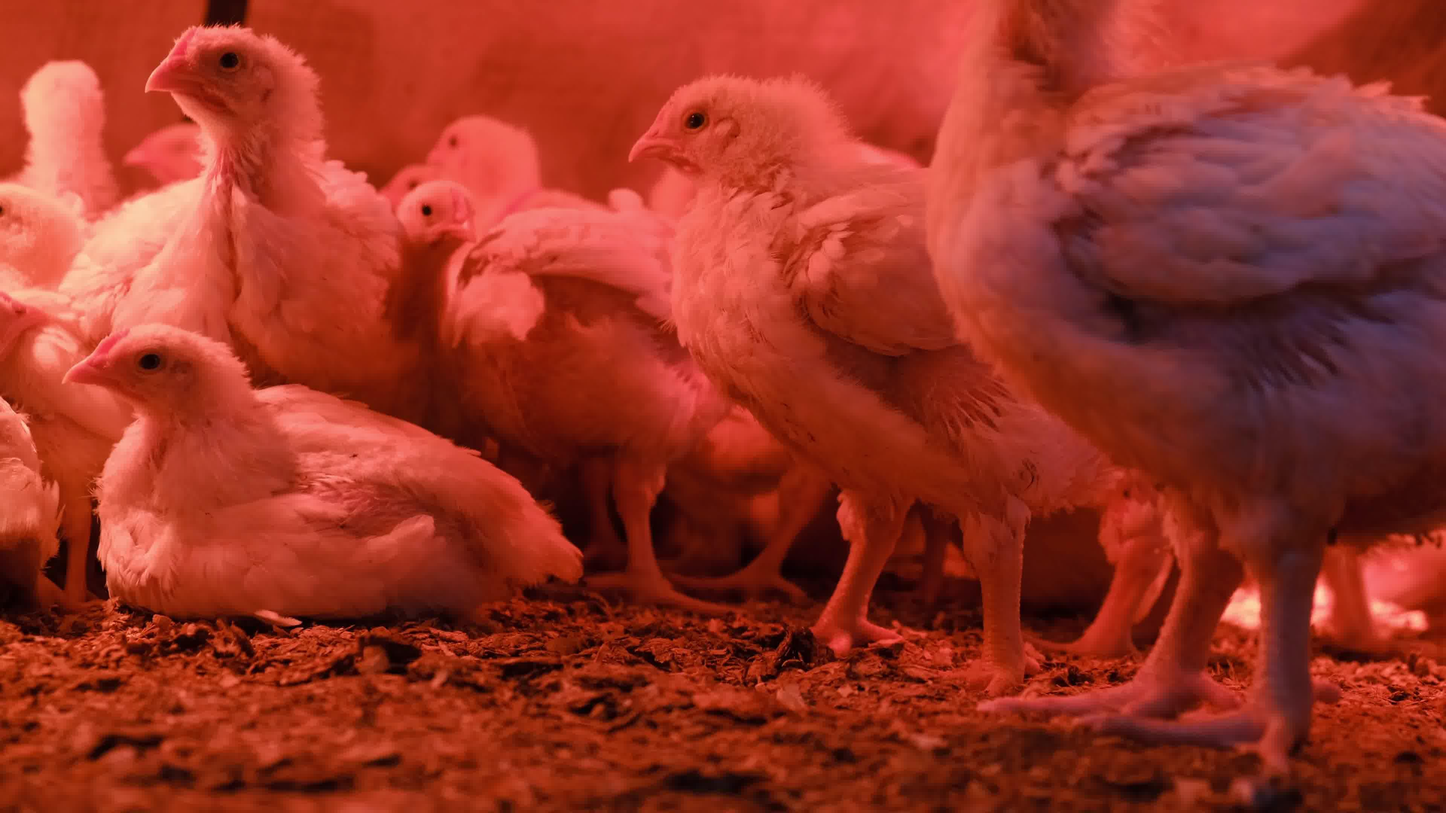AbNormal: (47, 316, 576, 615), (0, 254, 109, 636)
Normal: (919, 0, 1446, 766), (584, 72, 1051, 681), (107, 9, 429, 352), (66, 88, 233, 215), (420, 102, 557, 248), (2, 34, 130, 173), (382, 173, 506, 316), (0, 109, 100, 286)
